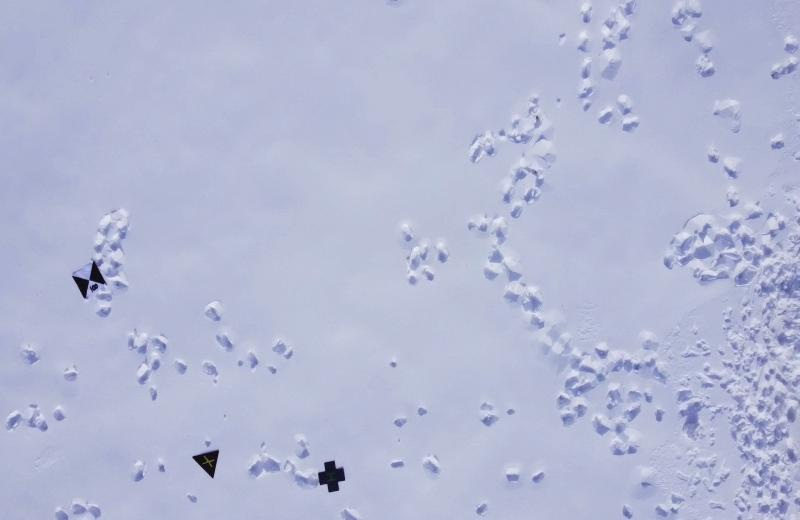Cross: (314, 459, 347, 497)
Triangle: (190, 443, 222, 481)
